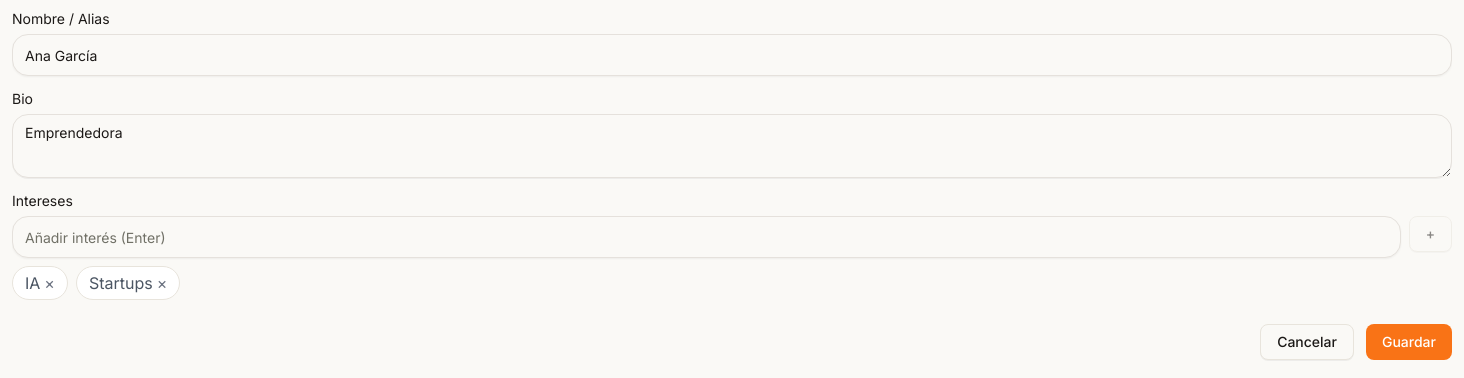
Test: ProfileForm — submit exitoso › muestra "Guardando..." durante el submit
The width and height of the screenshot is (1464, 378).
Click the button "Guardar" at [1409, 342], box top-left (1366, 324), bottom-right (1452, 360)
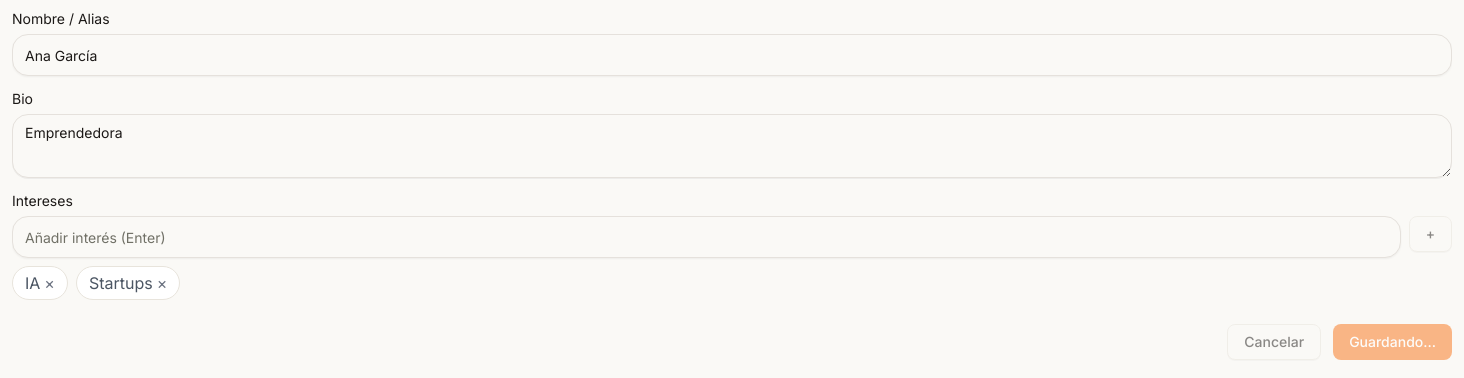
Expected: the button "Guardando..." is shown, top-left (1333, 324), bottom-right (1452, 360)
